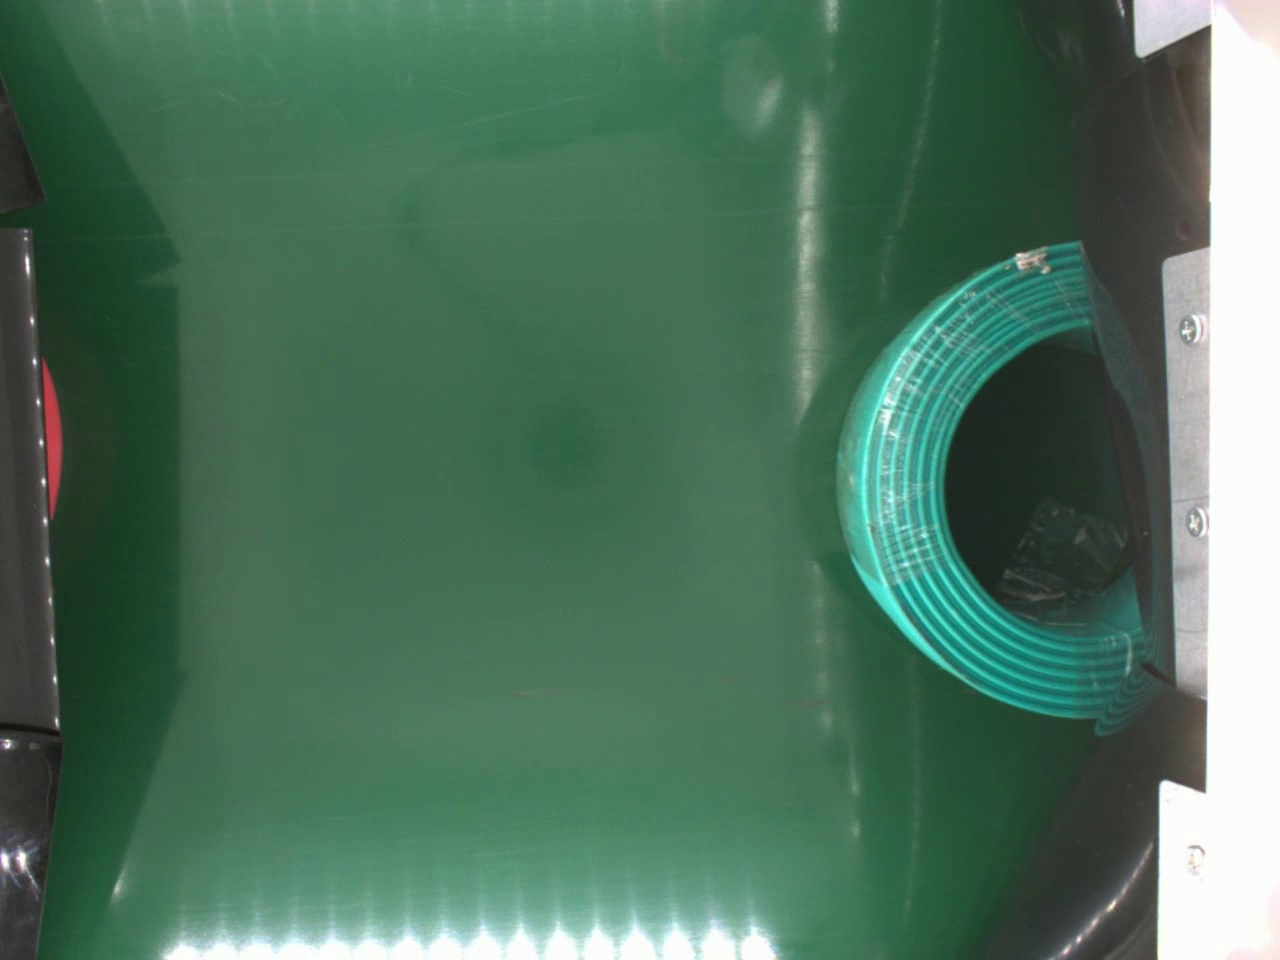green: (833, 240, 1149, 722)
